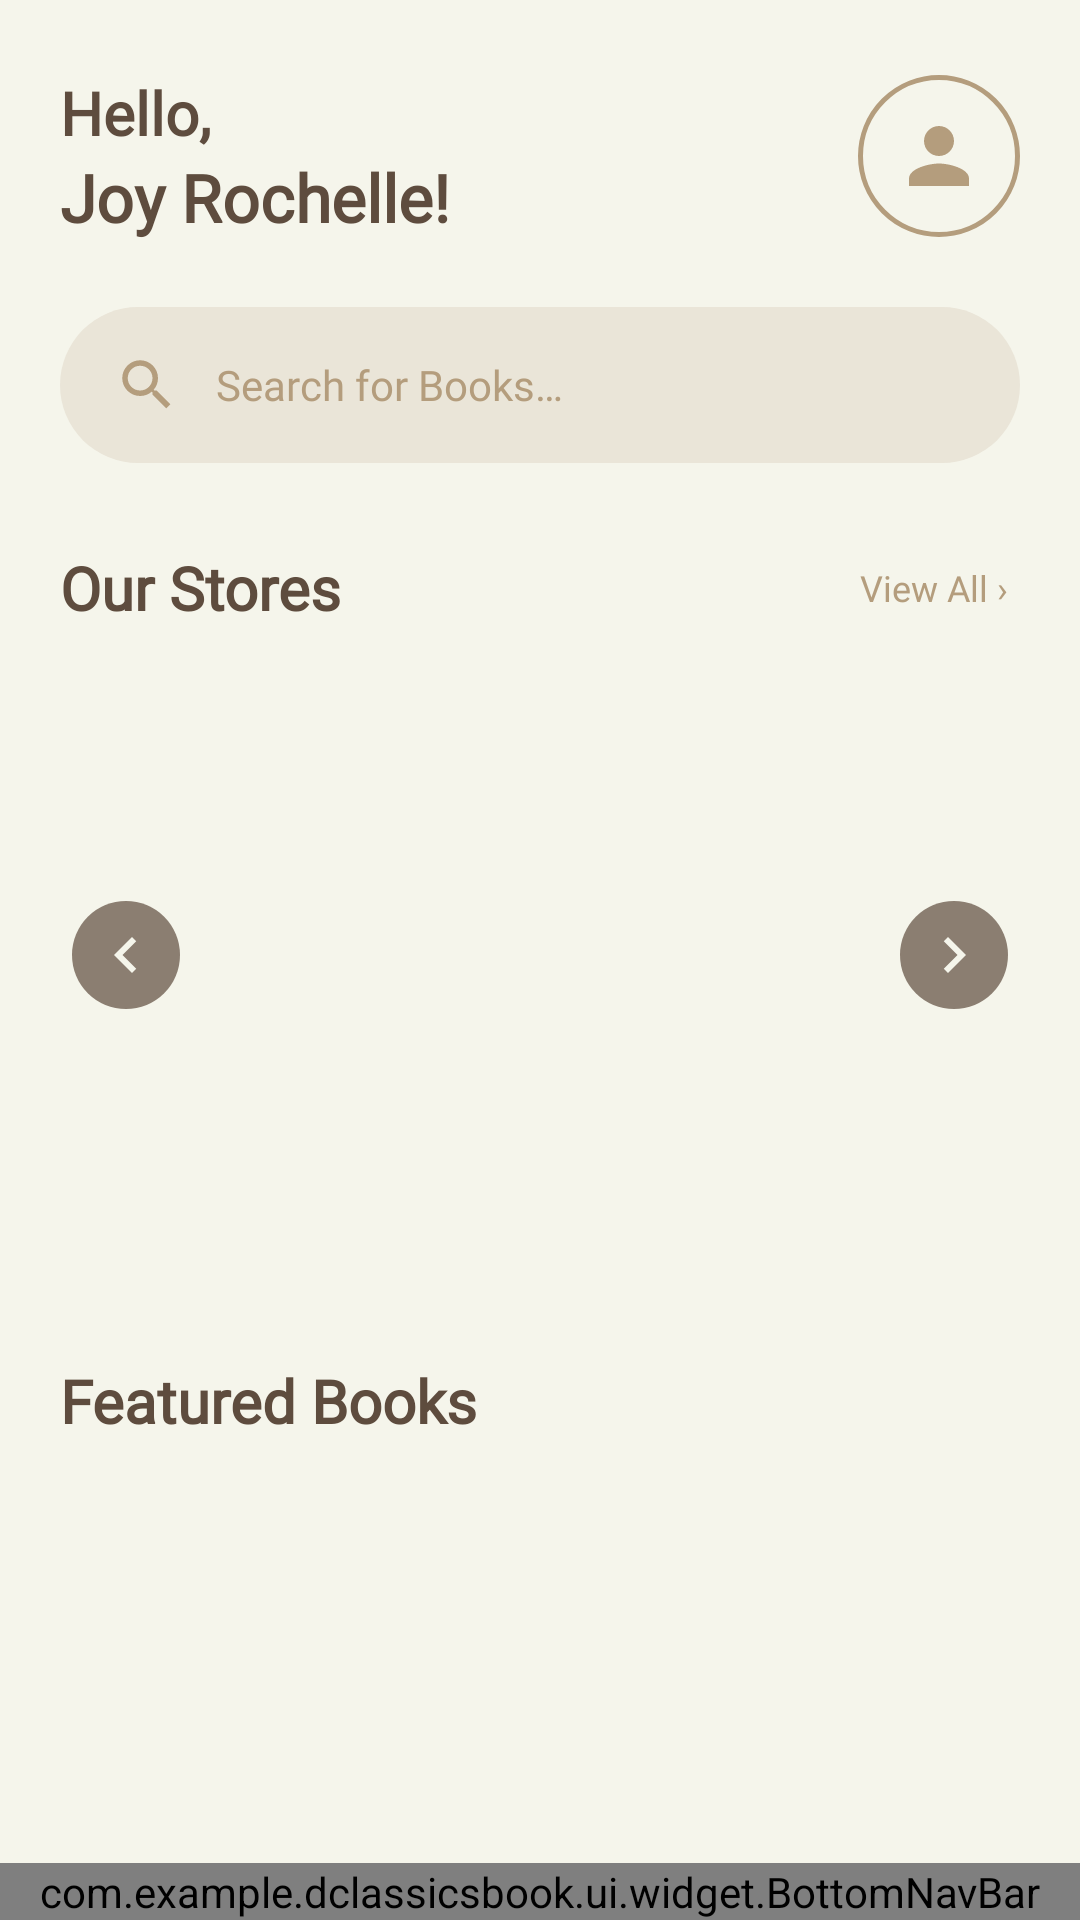

Icon bounding boxes for this 1080 x 1920 phone screenshot, format Rect(x1, y1, x2, y2):
Next store: Rect(900, 901, 1008, 1009)
Previous store: Rect(72, 901, 180, 1009)
Profile picture: Rect(858, 75, 1020, 237)
